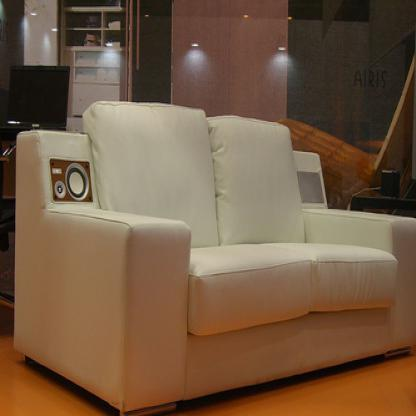sofa: (13, 101, 415, 415)
